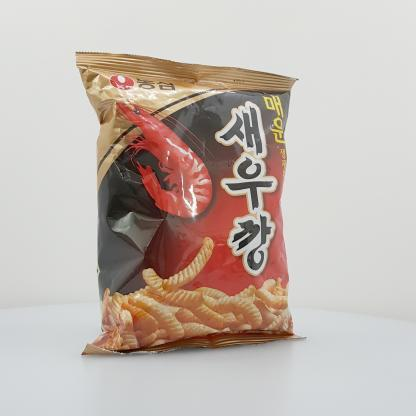Plastic Packaging: (70, 45, 318, 363)
